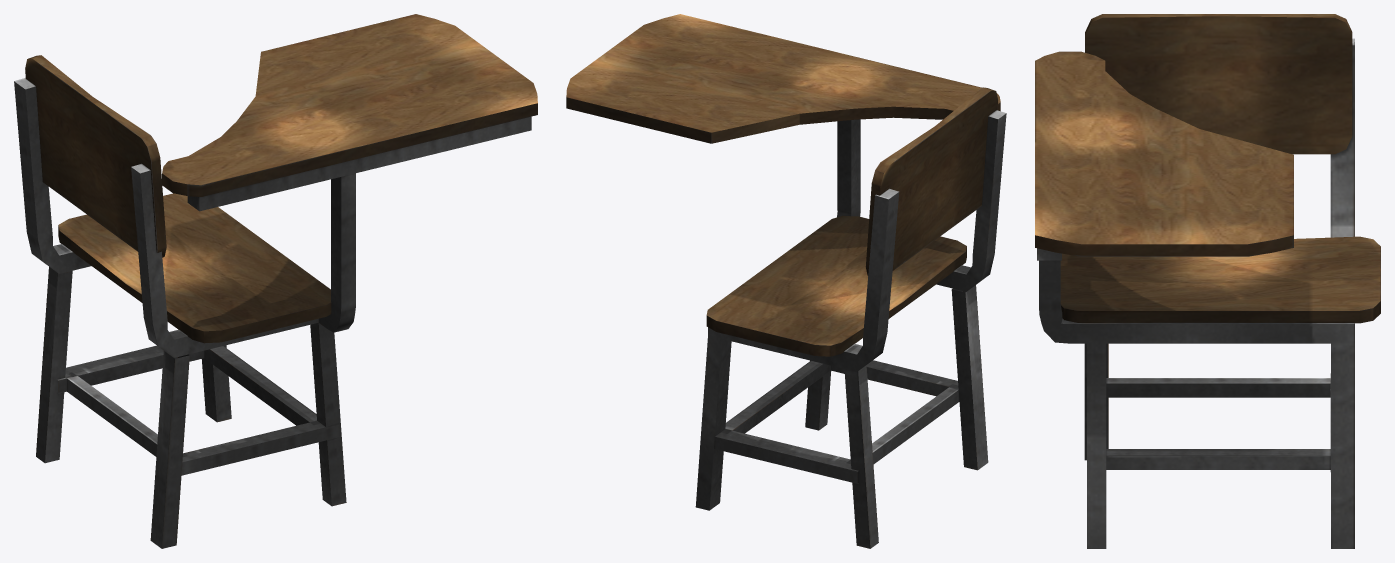
Rendered from silla.glb.
3 views of the same model, side by side, from view 1: azimuth 30°, elevation 25°; view 2: azimuth 150°, elevation 25°; view 3: azimuth 270°, elevation 25° (orthographic). The views are drawn at different scales.
Visible parts, largest first — view 1: SillaConalep.028; view 2: SillaConalep.028; view 3: SillaConalep.028.
Part boxes in pixels (left/top/right/bottom): SillaConalep.028: left=14, top=14, right=537, bottom=548; SillaConalep.028: left=566, top=14, right=1006, bottom=548; SillaConalep.028: left=1035, top=14, right=1380, bottom=548.
Size of what is drawn, in the model's own units: 0.8066 by 0.8051 by 0.5818.
1 material, 1 textured.
